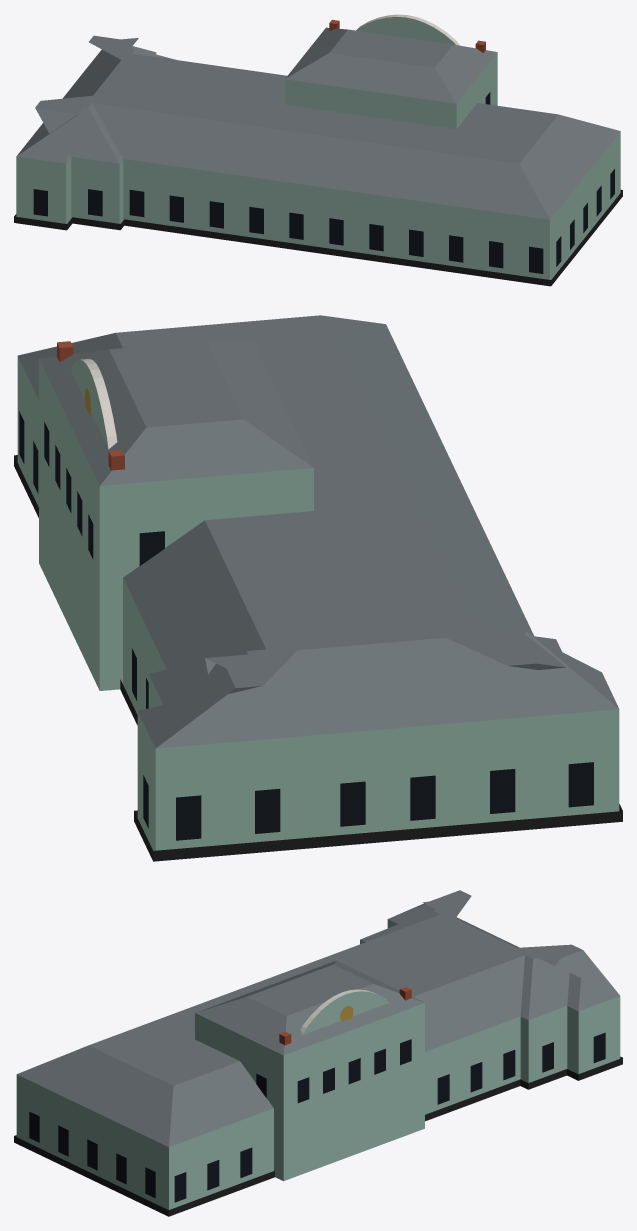
Rendered from theatre-lo.glb.
3 renders of one model, top to bottom at view 1: azimuth 30°, elevation 25°; view 2: azimuth 150°, elevation 25°; view 3: azimuth 270°, elevation 25°, orthographic. The views are drawn at different scales.
Visible parts, largest first — view 1: lm-theatre; view 2: lm-theatre; view 3: lm-theatre.
Boxes of the visible parts, x1,y1,x2,y2 form: lm-theatre: [14, 14, 622, 286]; lm-theatre: [14, 315, 622, 861]; lm-theatre: [14, 890, 622, 1216].
Size of the model in its own units: 47.76 by 14.2 by 50.04.
